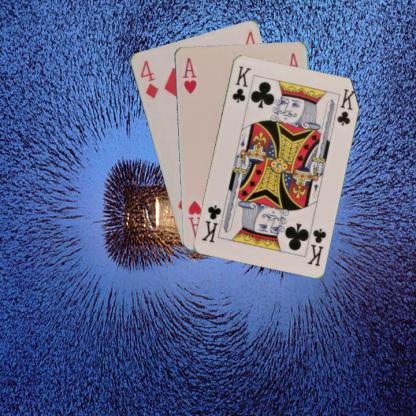4d: (137, 57, 159, 100)
Ah: (180, 55, 198, 95)
Kc: (304, 224, 327, 268), (230, 63, 252, 104)
